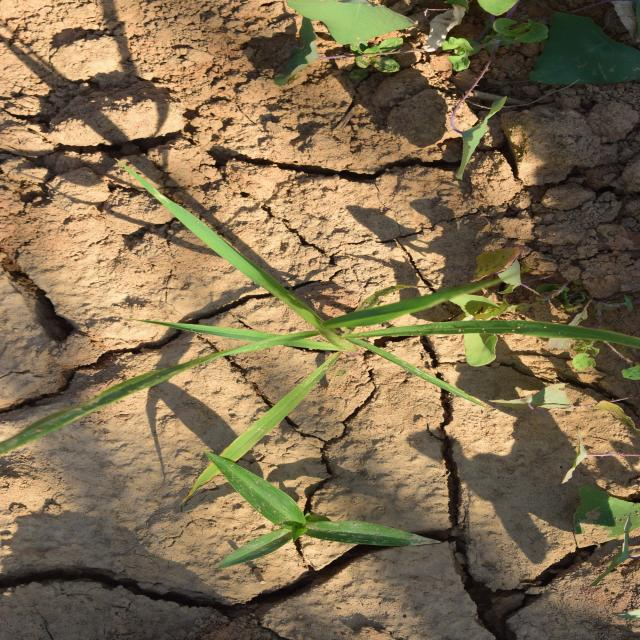green_foxtail: (212, 121, 390, 511)
